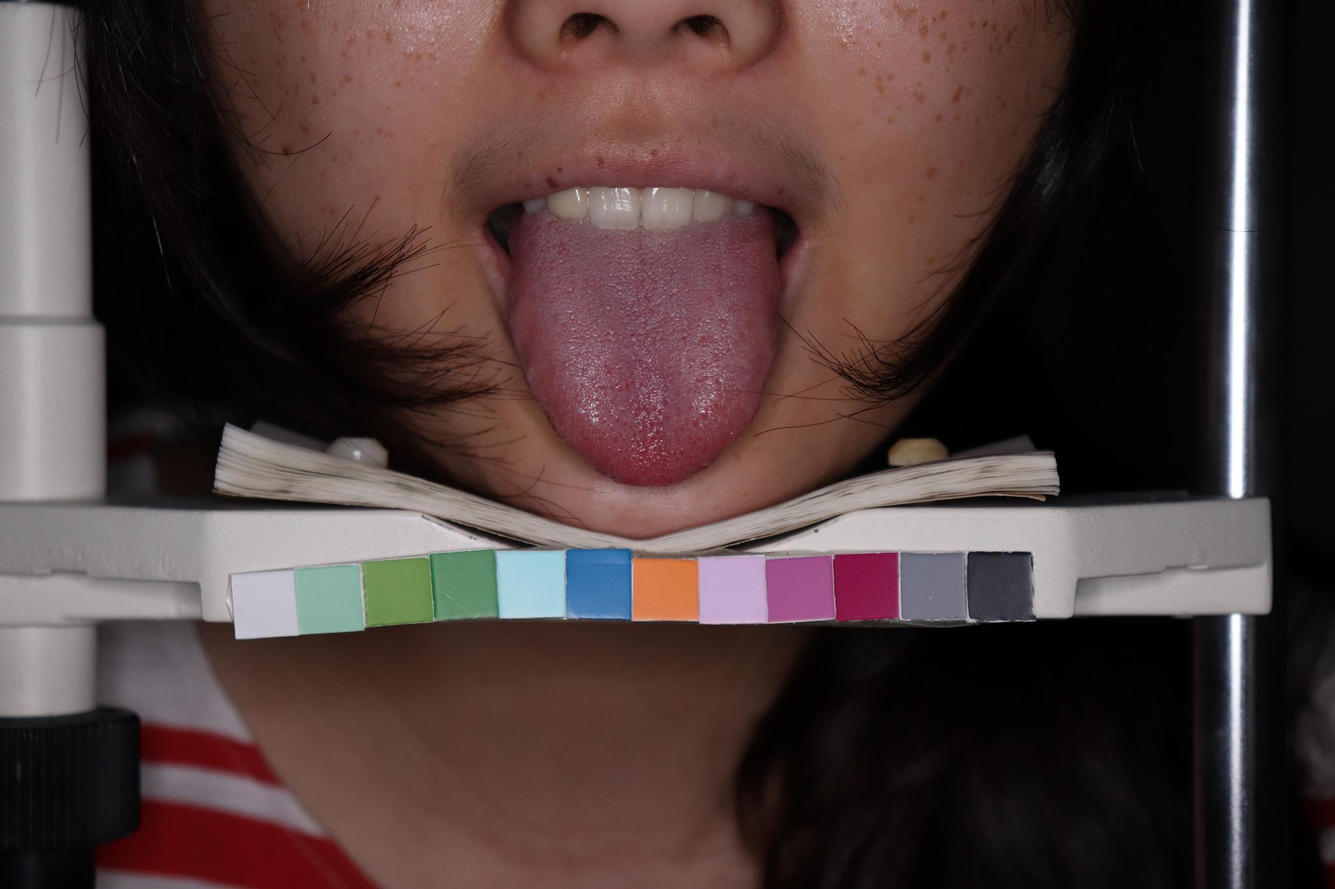baitaishe: (508, 206, 779, 488)
hongdianshe: (677, 446, 684, 453)
